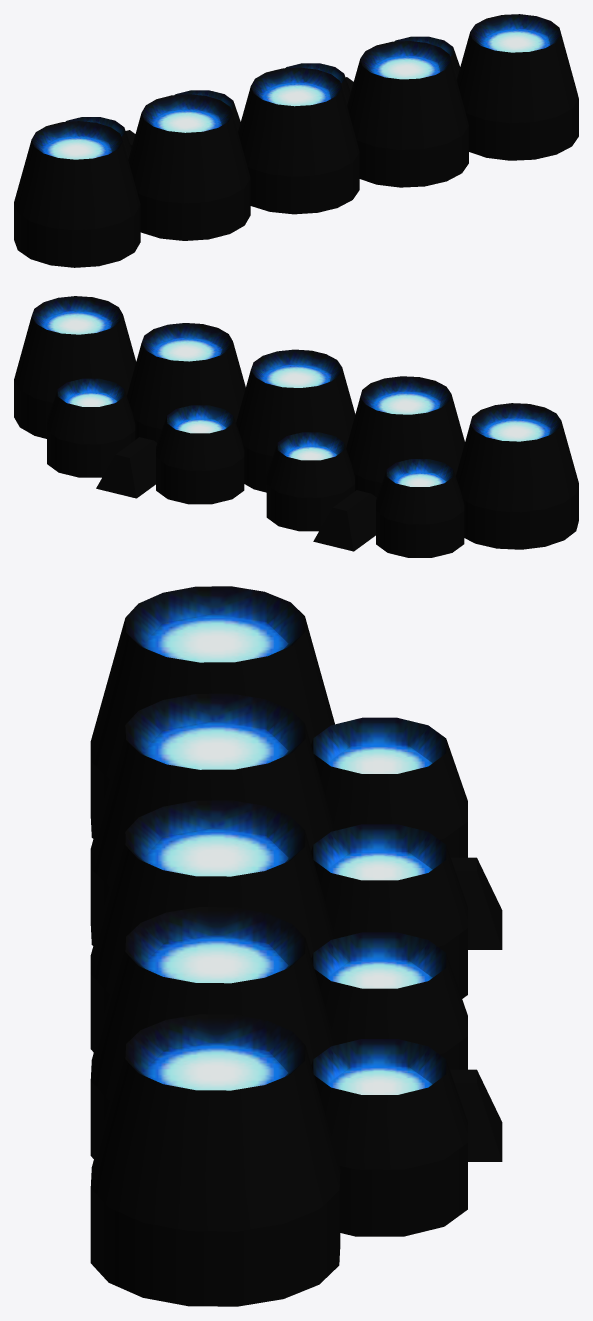
Rendered from hgn_flagship_explorer_04_engine_l_01.glb.
The picture shows the model from 3 angles, top to bottom: view 1: azimuth 30°, elevation 25°; view 2: azimuth 150°, elevation 25°; view 3: azimuth 270°, elevation 25°; orthographic projection. The views are drawn at different scales.
Parts seen in each view (by area): view 1: hgn_flagship_explorer_04_engine_l_01; view 2: hgn_flagship_explorer_04_engine_l_01; view 3: hgn_flagship_explorer_04_engine_l_01.
Boxes of the visible parts, x1,y1,x2,y2 form: hgn_flagship_explorer_04_engine_l_01: [14, 14, 578, 267]; hgn_flagship_explorer_04_engine_l_01: [14, 296, 578, 557]; hgn_flagship_explorer_04_engine_l_01: [90, 586, 502, 1306].
Size of the model in its own units: 2.42 by 0.4265 by 0.7895.
Materials: 1 (1 with a texture image).
